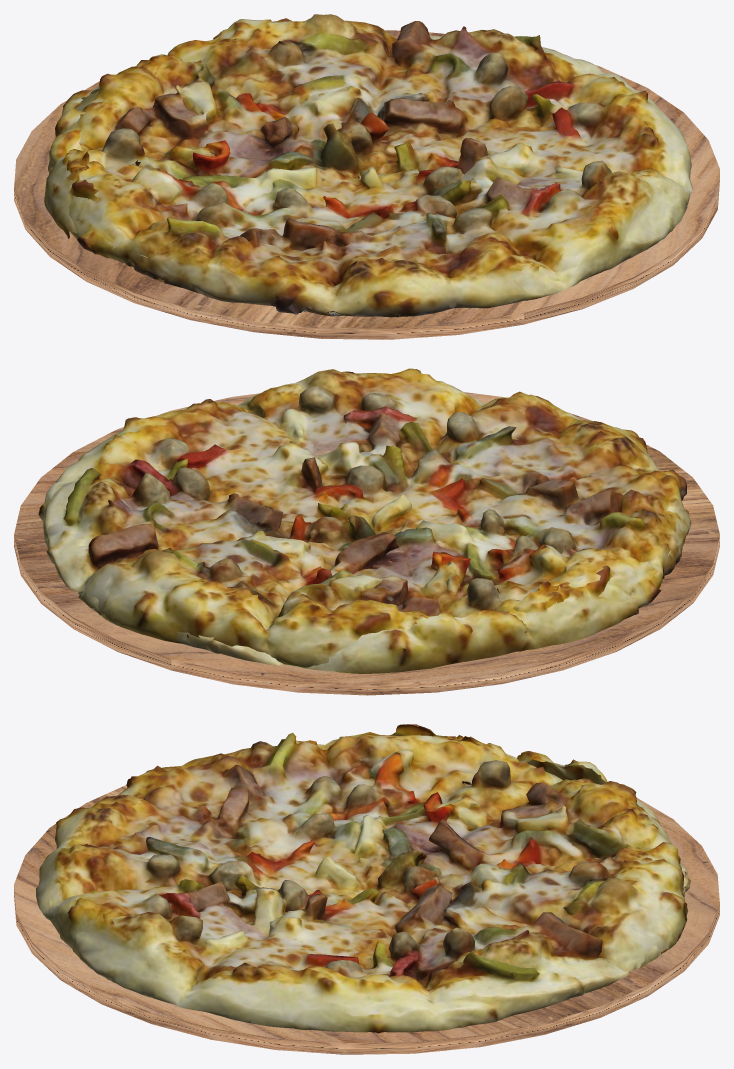
File: Pizza.glb
3 renders of one model, top to bottom at view 1: azimuth 30°, elevation 25°; view 2: azimuth 150°, elevation 25°; view 3: azimuth 270°, elevation 25°, orthographic.
Visible parts, largest first — view 1: Pizza2, Dish; view 2: Pizza2, Dish; view 3: Pizza2, Dish.
Part boxes in pixels (<box>): Pizza2: <box>44,14,692,317</box>; Dish: <box>14,30,719,339</box>; Pizza2: <box>38,368,691,673</box>; Dish: <box>14,392,719,695</box>; Pizza2: <box>36,724,690,1033</box>; Dish: <box>14,785,719,1054</box>.
Bounding box in the file's own units: 0.4355 × 0.0435 × 0.4355.
4 materials, 4 textured.
